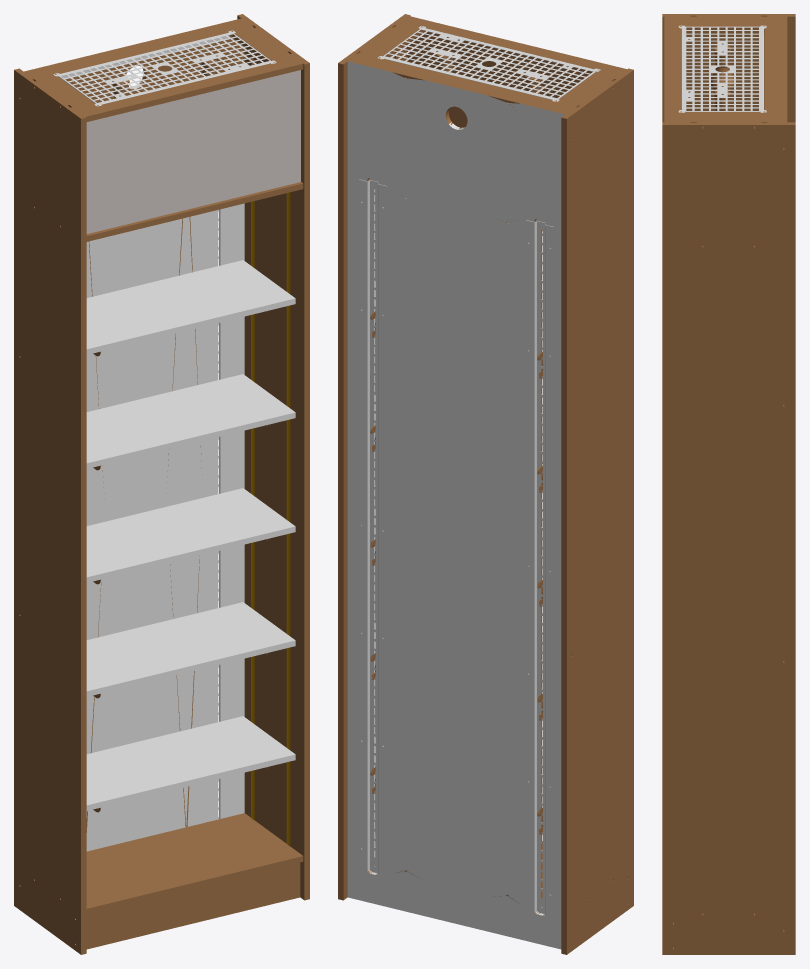
The model's file is TESTE DERMO1.glb.
3 renders of one model, left to right at view 1: azimuth 30°, elevation 25°; view 2: azimuth 150°, elevation 25°; view 3: azimuth 270°, elevation 25°, orthographic.
Parts seen in each view (by area): view 1: DERMO FLEXPRO TESTE, DERMO FLEXPRO TESTE.001, DERMO FLEXPRO TESTE.039, DERMO FLEXPRO TESTE.004, DERMO FLEXPRO TESTE.012, DERMO FLEXPRO TESTE.013, DERMO FLEXPRO TESTE.015, DERMO FLEXPRO TESTE.014, DERMO FLEXPRO TESTE.016, DERMO FLEXPRO TESTE.005, DERMO FLEXPRO TESTE.040, DERMO FLEXPRO TESTE.031 (+2 smaller); view 2: DERMO FLEXPRO TESTE, DERMO FLEXPRO TESTE.001, DERMO FLEXPRO TESTE.007, DERMO FLEXPRO TESTE.006, DERMO FLEXPRO TESTE.040, DERMO FLEXPRO TESTE.038; view 3: DERMO FLEXPRO TESTE, DERMO FLEXPRO TESTE.040, DERMO FLEXPRO TESTE.001, DERMO FLEXPRO TESTE.037.
Part boxes in pixels (x1,y1,x2,y2): DERMO FLEXPRO TESTE: (24, 14, 309, 900); DERMO FLEXPRO TESTE.001: (14, 68, 86, 954); DERMO FLEXPRO TESTE.039: (86, 70, 300, 233); DERMO FLEXPRO TESTE.004: (86, 813, 303, 914); DERMO FLEXPRO TESTE.012: (86, 716, 295, 810); DERMO FLEXPRO TESTE.013: (86, 602, 295, 696); DERMO FLEXPRO TESTE.015: (86, 374, 295, 468); DERMO FLEXPRO TESTE.014: (86, 488, 295, 582); DERMO FLEXPRO TESTE.016: (86, 260, 295, 354); DERMO FLEXPRO TESTE.005: (86, 862, 300, 949); DERMO FLEXPRO TESTE.040: (53, 30, 276, 106); DERMO FLEXPRO TESTE.031: (286, 192, 290, 846); DERMO FLEXPRO TESTE: (338, 14, 626, 949); DERMO FLEXPRO TESTE.001: (561, 68, 633, 954); DERMO FLEXPRO TESTE.007: (357, 179, 388, 875); DERMO FLEXPRO TESTE.006: (524, 220, 555, 916); DERMO FLEXPRO TESTE.040: (378, 26, 600, 101); DERMO FLEXPRO TESTE.038: (406, 34, 588, 127); DERMO FLEXPRO TESTE: (662, 16, 795, 954); DERMO FLEXPRO TESTE.040: (678, 25, 766, 112); DERMO FLEXPRO TESTE.001: (662, 14, 795, 122); DERMO FLEXPRO TESTE.037: (711, 66, 733, 91).
Bounding box in the file's own units: 0.63 × 2.2 × 0.32.
